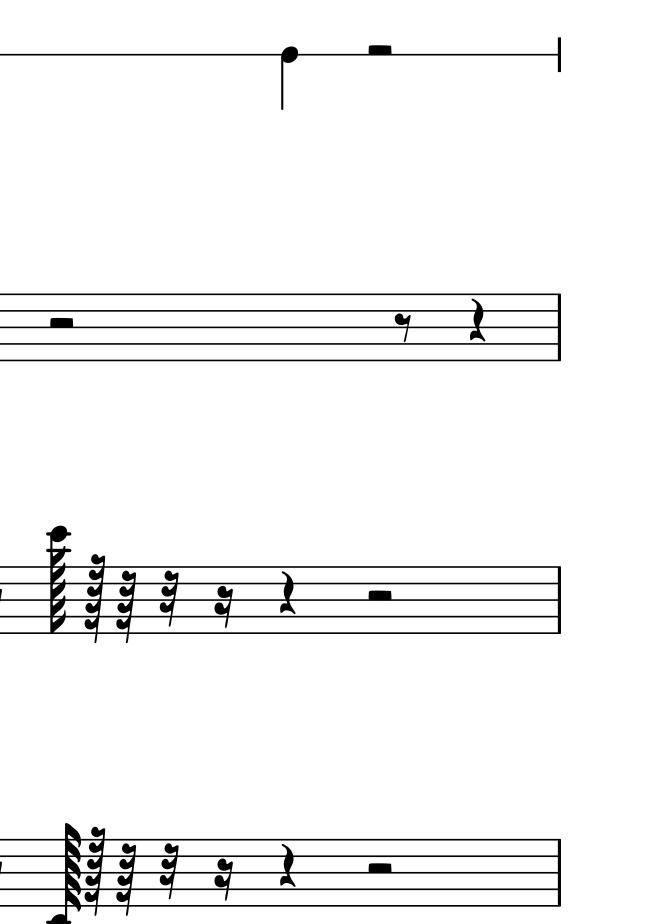128_12: (47, 524, 69, 635)
4_4: (278, 45, 299, 112)
Rests128: (84, 552, 107, 645), (84, 825, 107, 918)
Rests16: (212, 584, 235, 630), (212, 857, 235, 903)
Rests2: (45, 315, 78, 335), (363, 41, 396, 60), (363, 860, 396, 879), (363, 588, 396, 605)
Rests32: (158, 569, 180, 629), (158, 842, 180, 901)
Rests4: (276, 570, 298, 618), (277, 842, 298, 891), (466, 297, 487, 344)
Rests64: (115, 567, 138, 645), (114, 839, 137, 917)
Rests8: (392, 311, 414, 344)
Single_barline: (551, 838, 567, 908), (551, 566, 567, 633), (551, 294, 566, 361)
